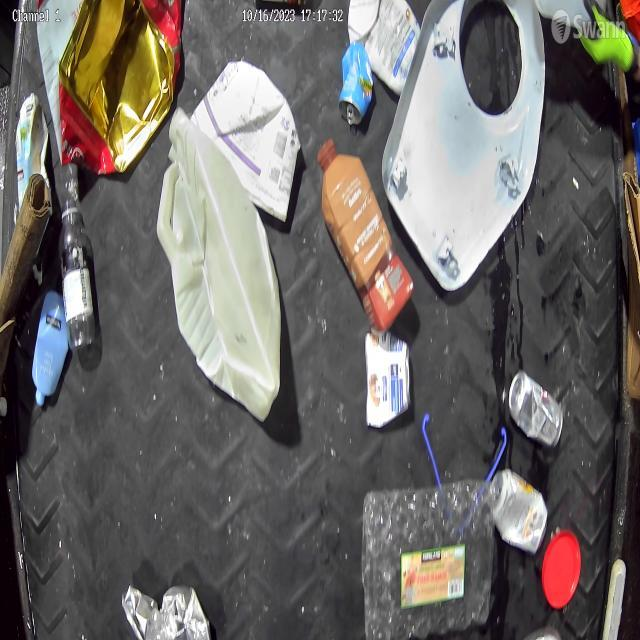can: (485, 464, 549, 557), (504, 366, 567, 454), (341, 44, 378, 138)
milk_jug: (156, 105, 284, 428), (345, 0, 421, 92)
non_white_jug: (312, 140, 415, 333)
plastic_bottle: (58, 193, 100, 373)
